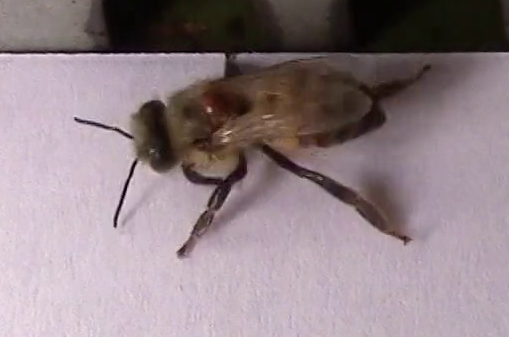Varroa destructor: (199, 89, 234, 122)
